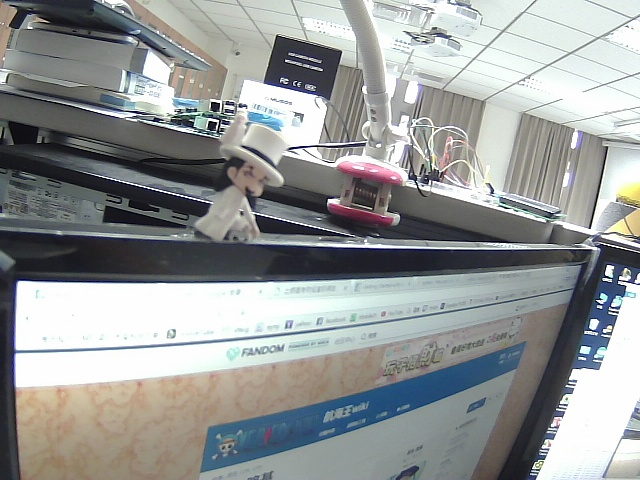lucci: (205, 103, 279, 251)
